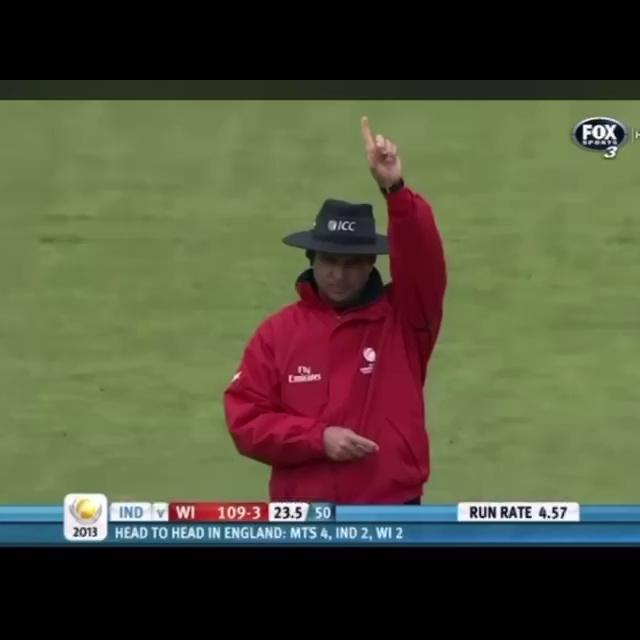umpire: (212, 100, 466, 502)
